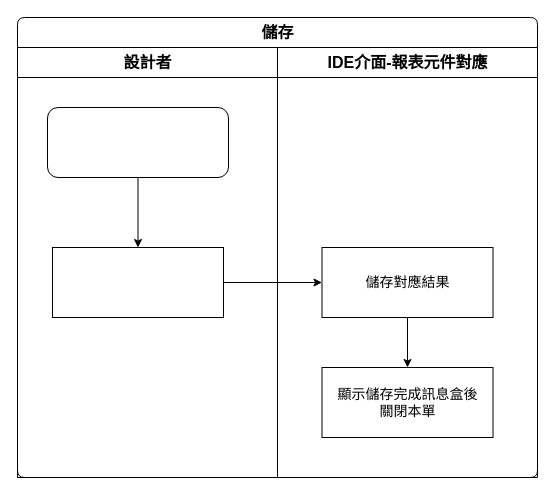
Image size: 555x495. Some labels were removed from this diagram. The shapes that lost their labels are listed below. From the top down, each one's centre as x and y in pixels, then its label:
[137,142]: 開啟: 報表元件對應
[138,282]: 執行按鈕: 儲存
